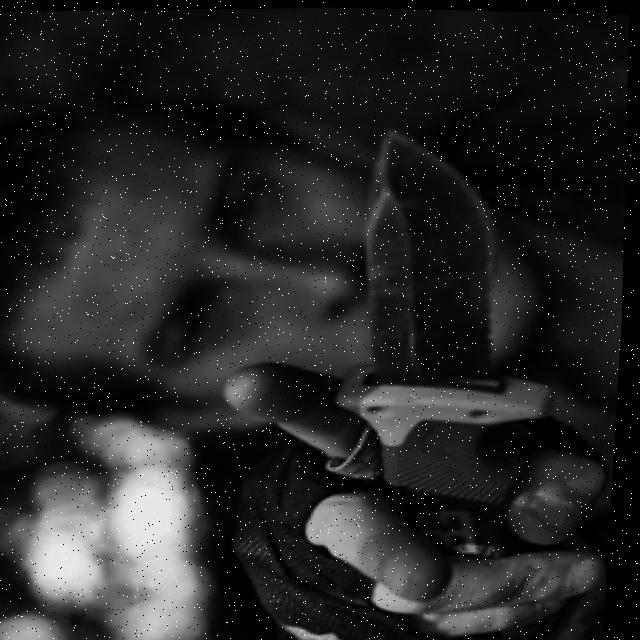knife: (323, 120, 578, 563)
